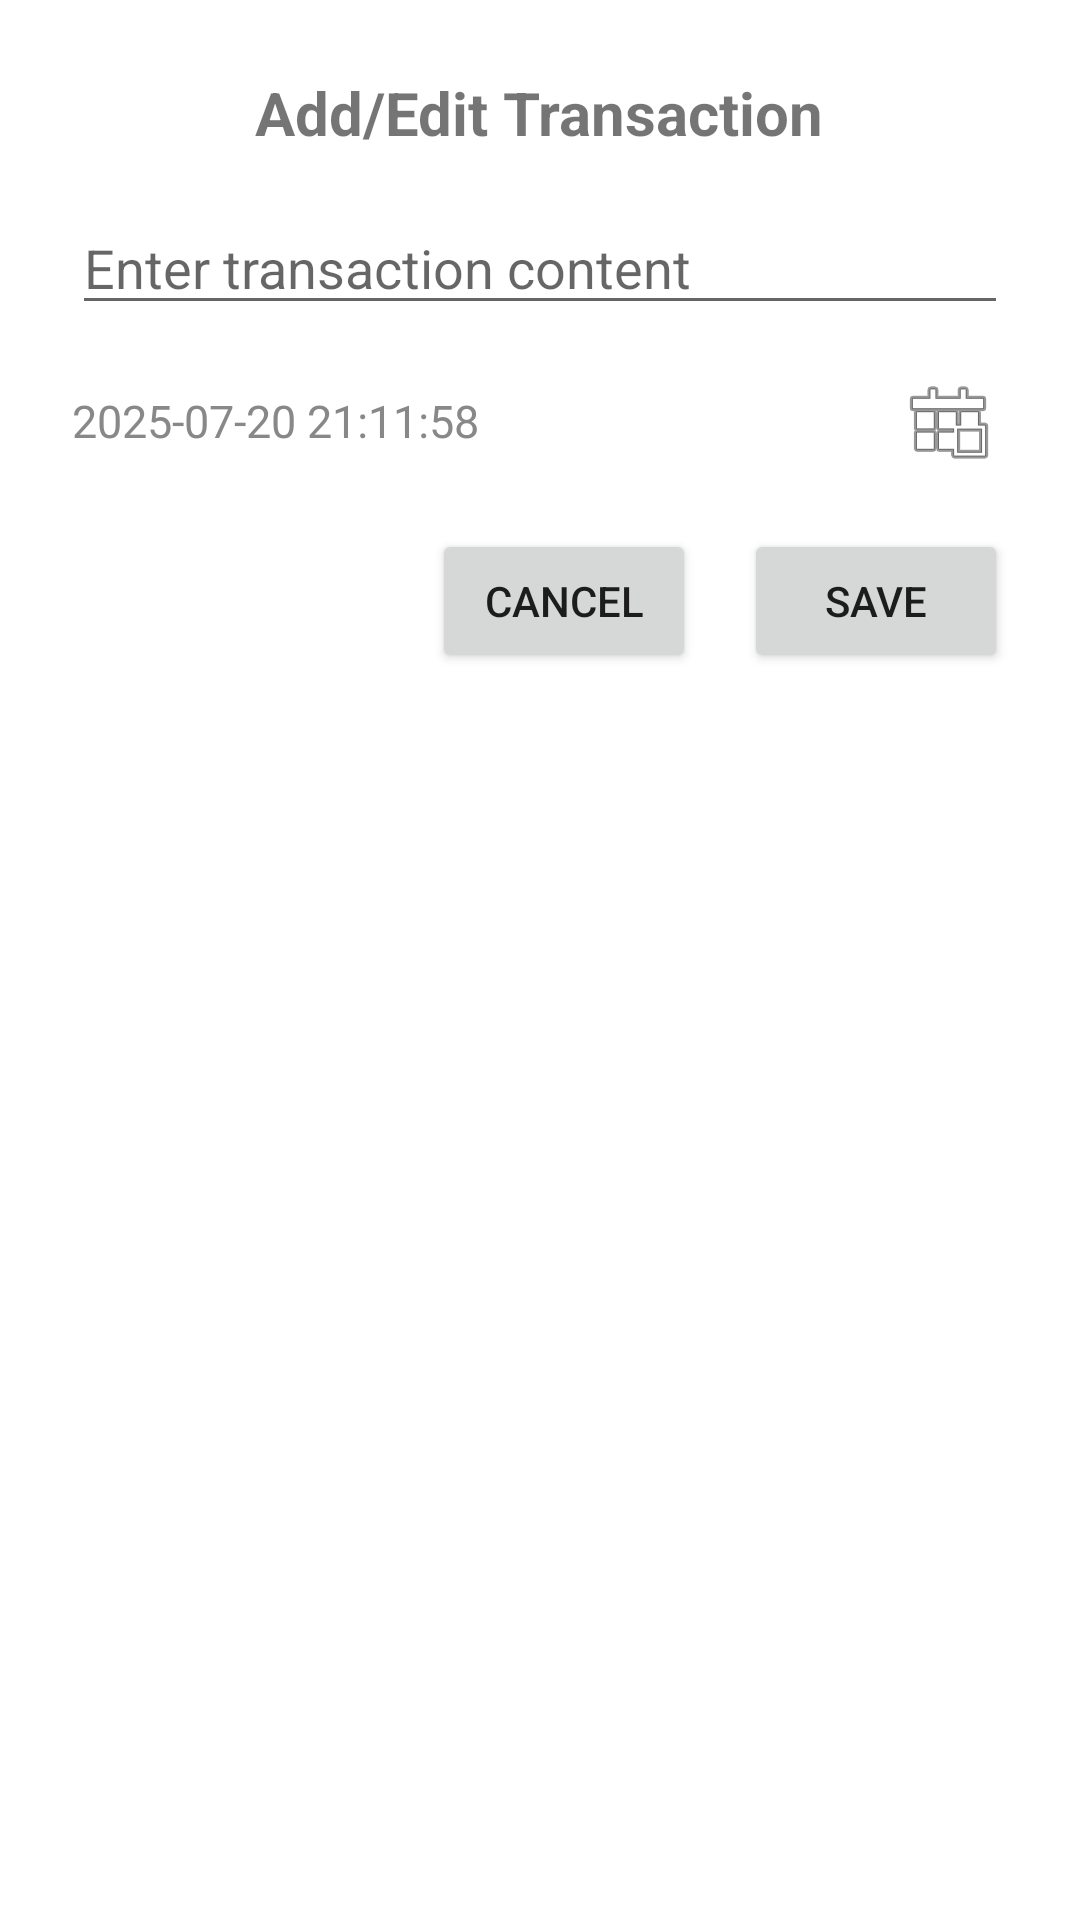

Where to tap for icons on this 1080w x 1920h app screen, as [x,y]:
Pick date: [949,422]
